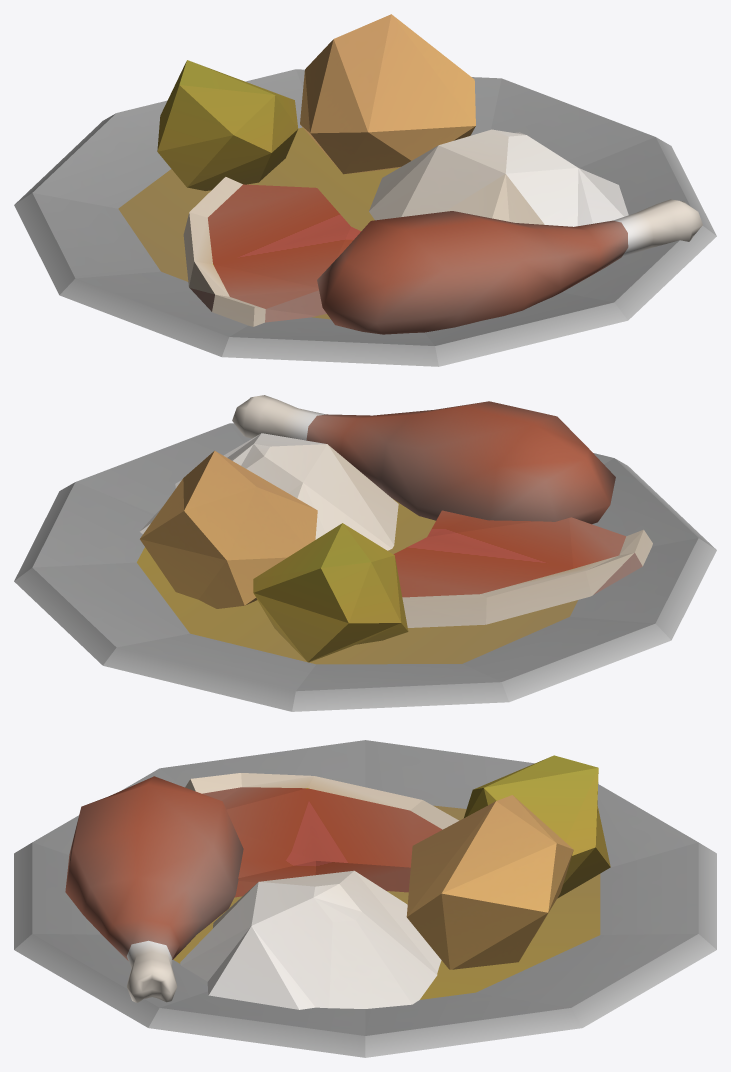
File: PlateMeal.fbx
The picture shows the model from 3 angles, top to bottom: view 1: azimuth 30°, elevation 25°; view 2: azimuth 150°, elevation 25°; view 3: azimuth 270°, elevation 25°; orthographic projection. The views are drawn at different scales.
Visible parts, largest first — view 1: PlateMeal; view 2: PlateMeal; view 3: PlateMeal.
Part boxes in pixels (x1=…): PlateMeal: x1=14, y1=14, x2=716, y2=366; PlateMeal: x1=14, y1=395, x2=716, y2=711; PlateMeal: x1=14, y1=740, x2=716, y2=1057.
Bounding box in the file's own units: 0.4204 × 0.1158 × 0.3998.
